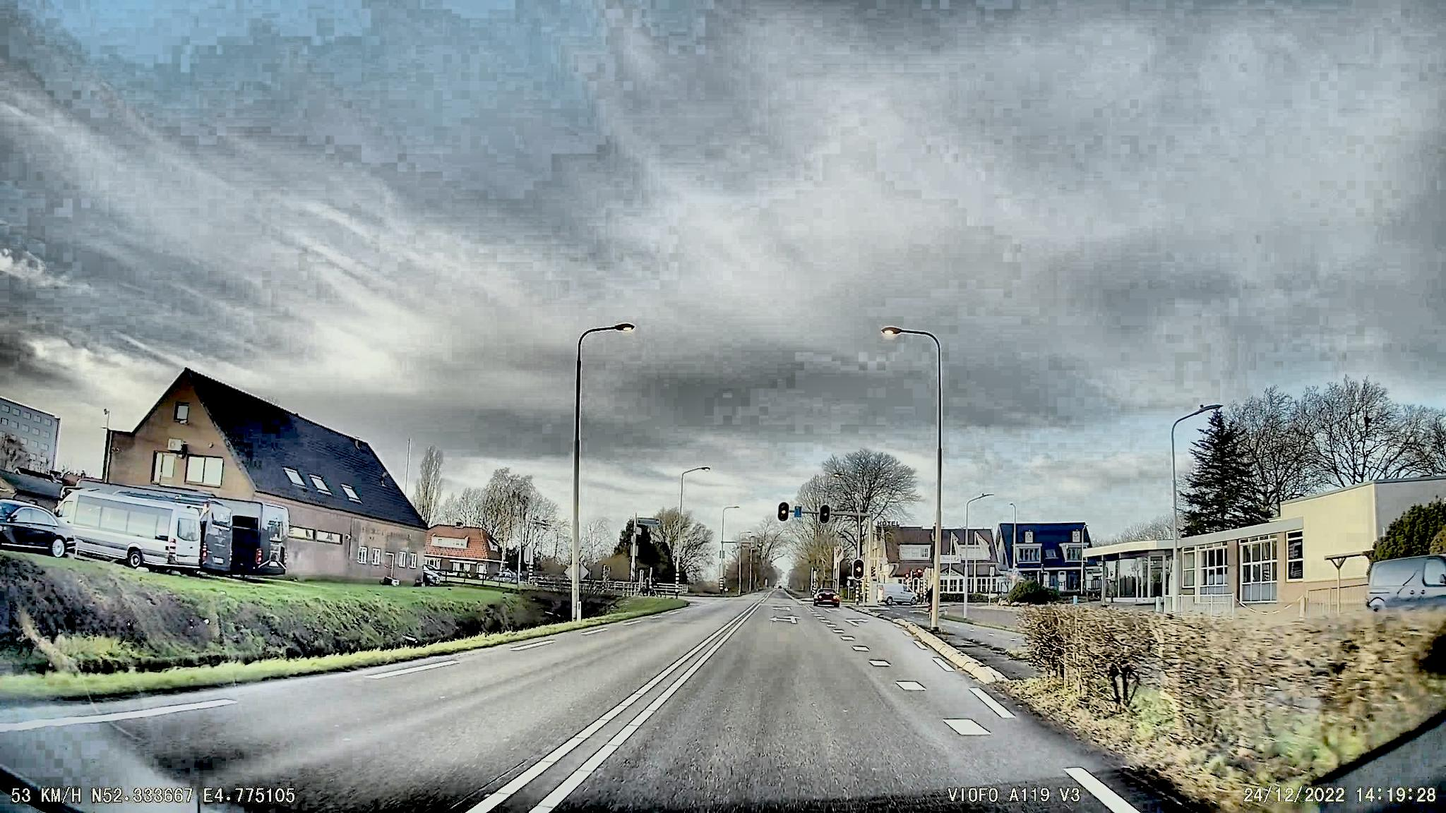Roads: (0, 596, 1201, 813)
